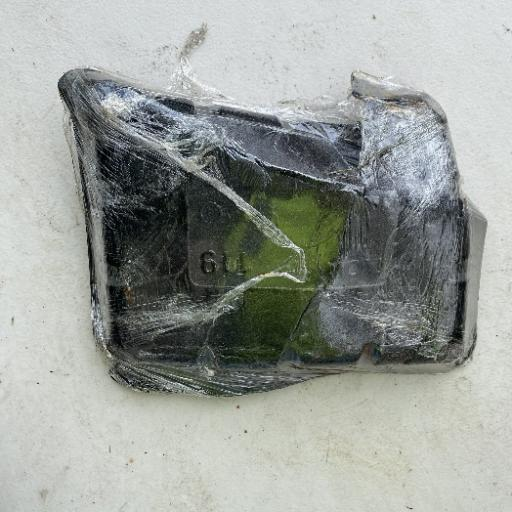Plastic: (56, 62, 484, 398)
